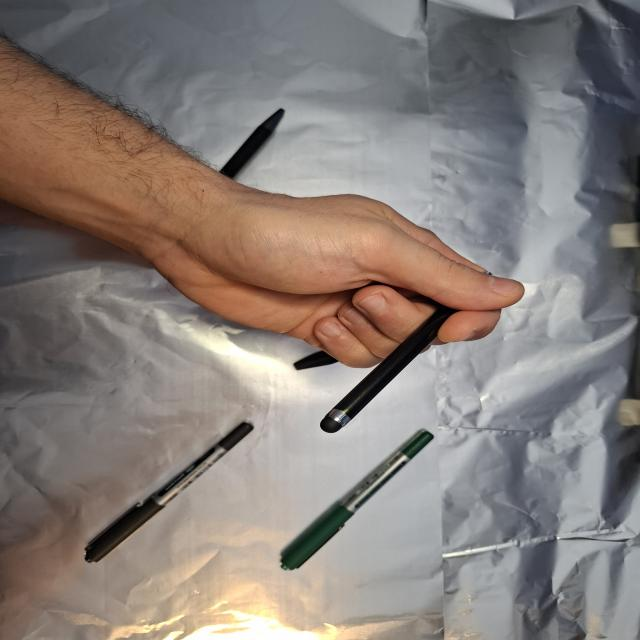glove_off: (142, 182, 528, 371)
